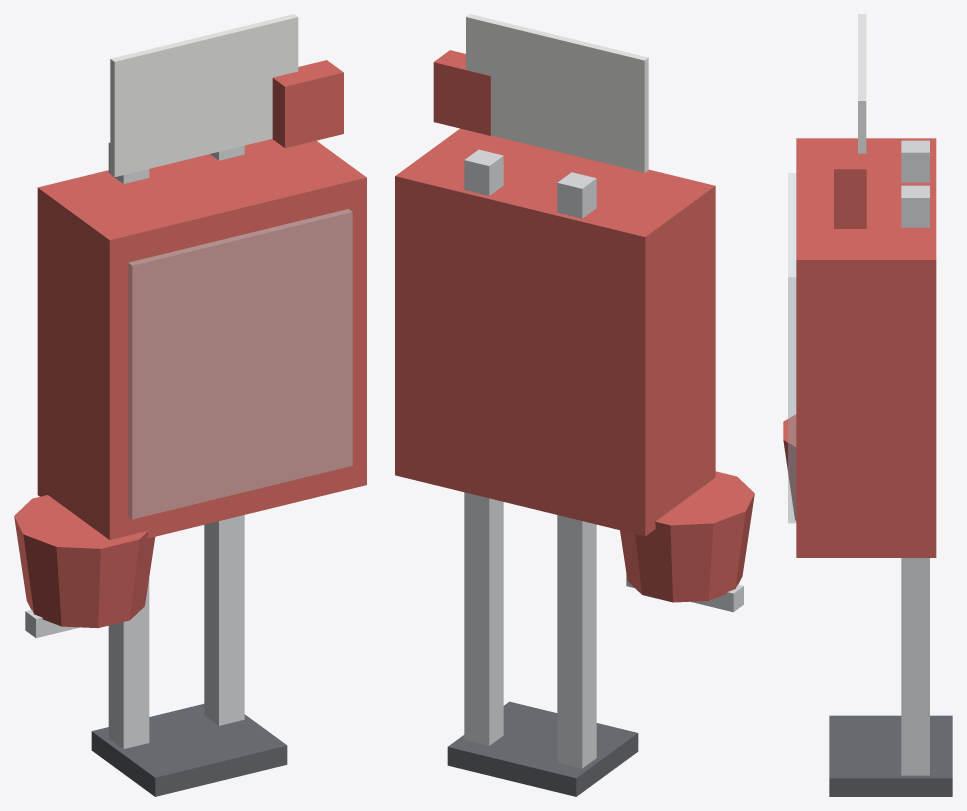
The model's file is marina-and-yacht-club-marina-and-yacht-club-fire-point-269a7ab7__38330.glb.
The picture shows the model from 3 angles, left to right: view 1: azimuth 30°, elevation 25°; view 2: azimuth 150°, elevation 25°; view 3: azimuth 270°, elevation 25°; orthographic projection. The views are drawn at different scales.
Visible parts, largest first — view 1: marina-and-yacht-club-fire-point; view 2: marina-and-yacht-club-fire-point; view 3: marina-and-yacht-club-fire-point.
Part boxes in pixels (x1,y1,x2,y2): marina-and-yacht-club-fire-point: (14, 14, 366, 796); marina-and-yacht-club-fire-point: (395, 14, 754, 796); marina-and-yacht-club-fire-point: (783, 14, 952, 796).
Bounding box in the file's own units: 0.8599 × 1.9 × 0.4117.
